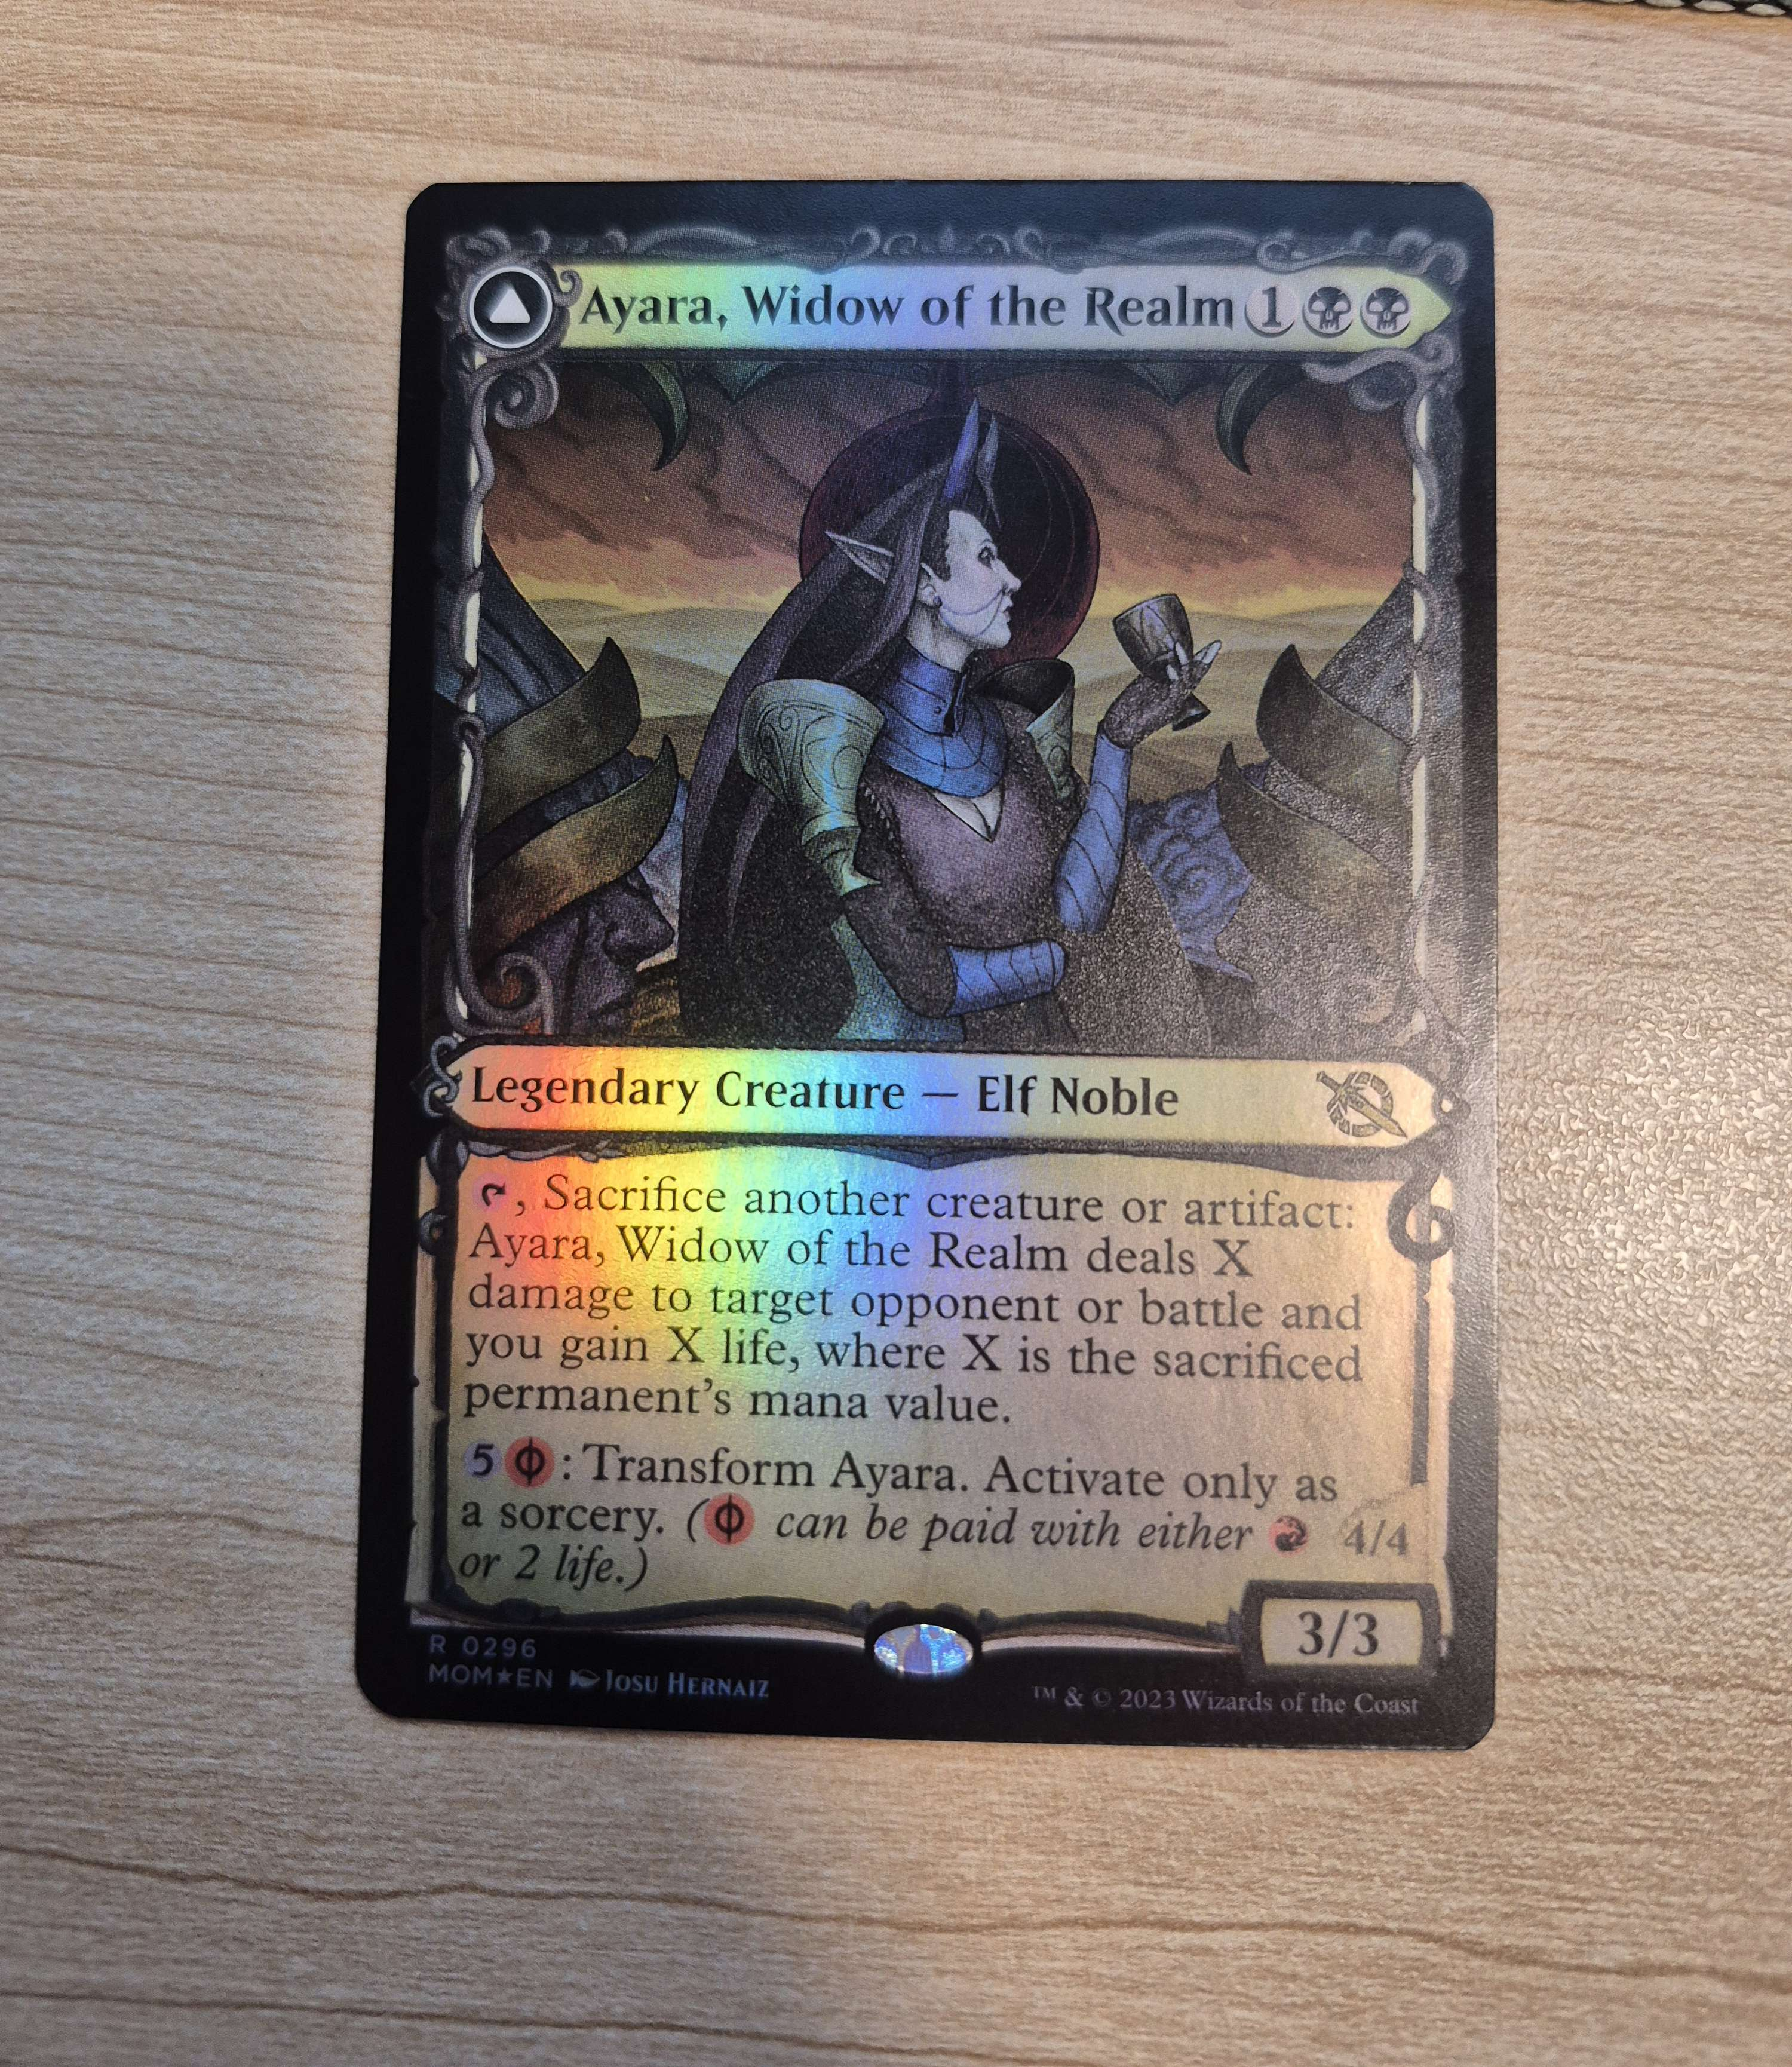mtg_card: (346, 155, 1565, 1765)
